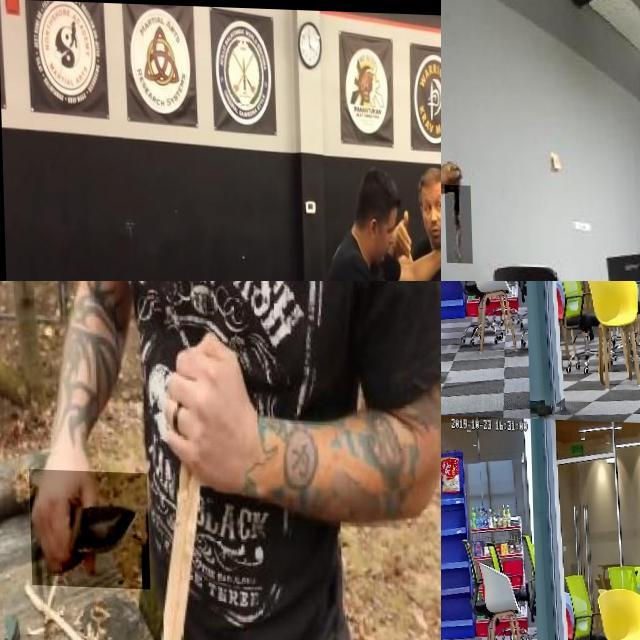-: (28, 468, 148, 588), (442, 182, 470, 262)
gun-knife-thesis - v11 Yolov5 augmented: (441, 533, 450, 557), (441, 281, 454, 295)
